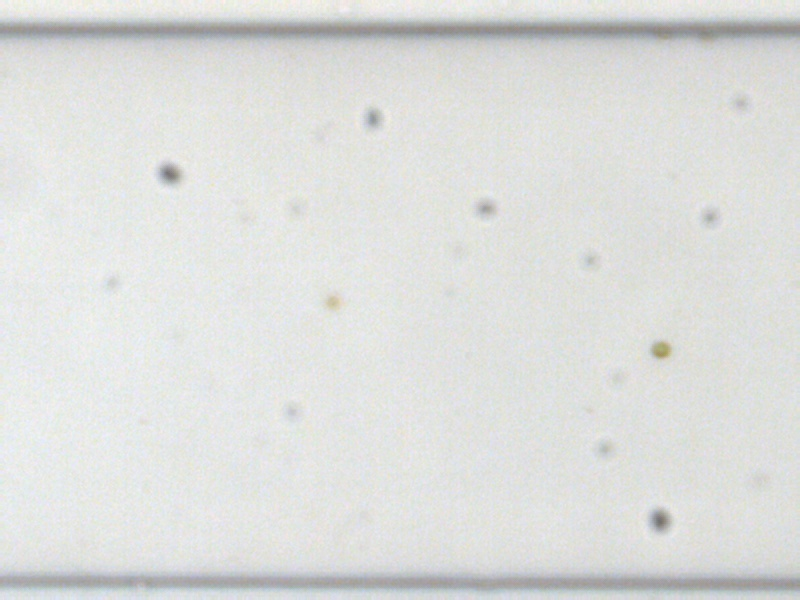Chlorella: (648, 339, 668, 357), (325, 294, 341, 310)
